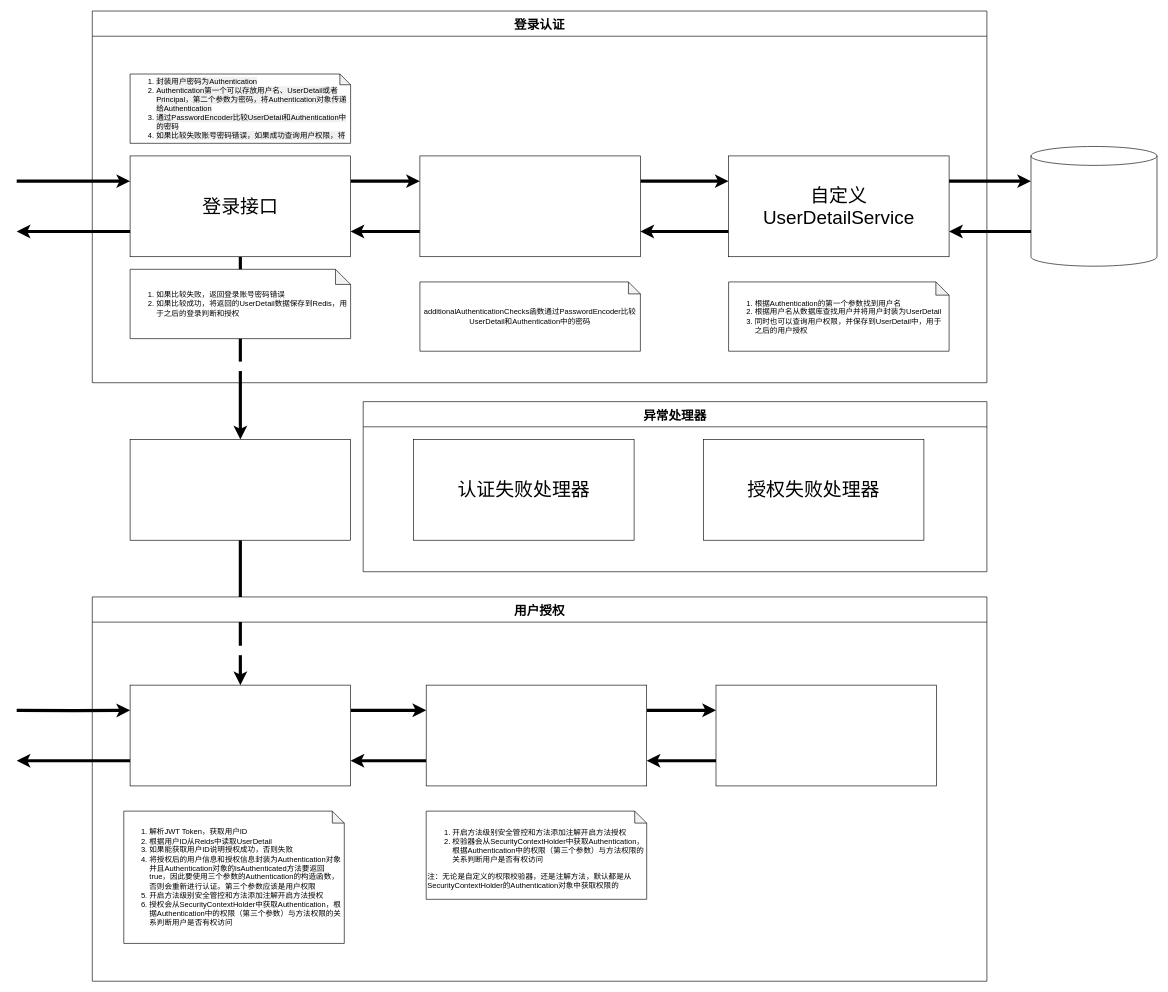
This 1168x992 diagram has some shape labels left out. Here are the shapes that lost their labels. From the top down, the centre of each, then its label:
At (x=529, y=206): "AuthoritarianManager ProviderManager".
At (x=1093, y=206): "数据库".
At (x=240, y=489): "Redis".
At (x=240, y=735): "JWT过滤器".
At (x=536, y=735): "权限校验器".
At (x=825, y=735): "其他资源".
